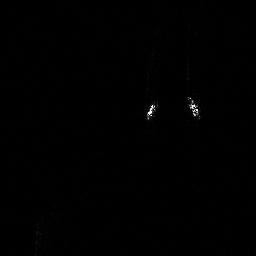ship: (184, 95, 202, 121), (143, 101, 157, 120)
